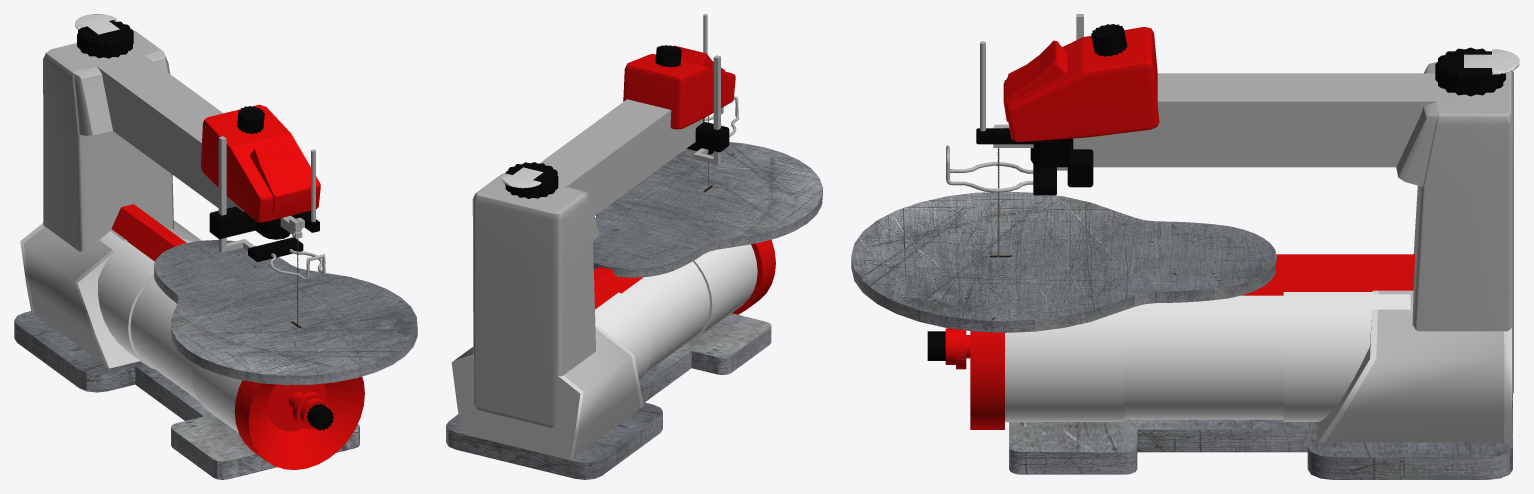
The model's file is ScrollSaw.fbx.
3 views of the same model, side by side, from view 1: azimuth 30°, elevation 25°; view 2: azimuth 150°, elevation 25°; view 3: azimuth 270°, elevation 25° (orthographic). The views are drawn at different scales.
Visible parts, largest first — view 1: Body, Dropfoot, Blade; view 2: Body, Dropfoot; view 3: Body, Dropfoot.
Part boxes in pixels (x1,y1,x2,y2): Body: (14,14,417,479); Dropfoot: (218,136,326,280); Blade: (280,216,304,325); Body: (446,14,822,479); Dropfoot: (687,55,739,164); Body: (851,24,1519,479); Dropfoot: (946,14,1083,195).
Size of the model in its own units: 0.7137 by 1.03 by 1.56.
Materials: 7 (2 with a texture image).
